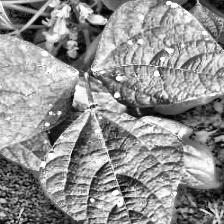Bean Rust: (34, 103, 180, 224), (88, 1, 224, 113), (0, 34, 78, 167)
